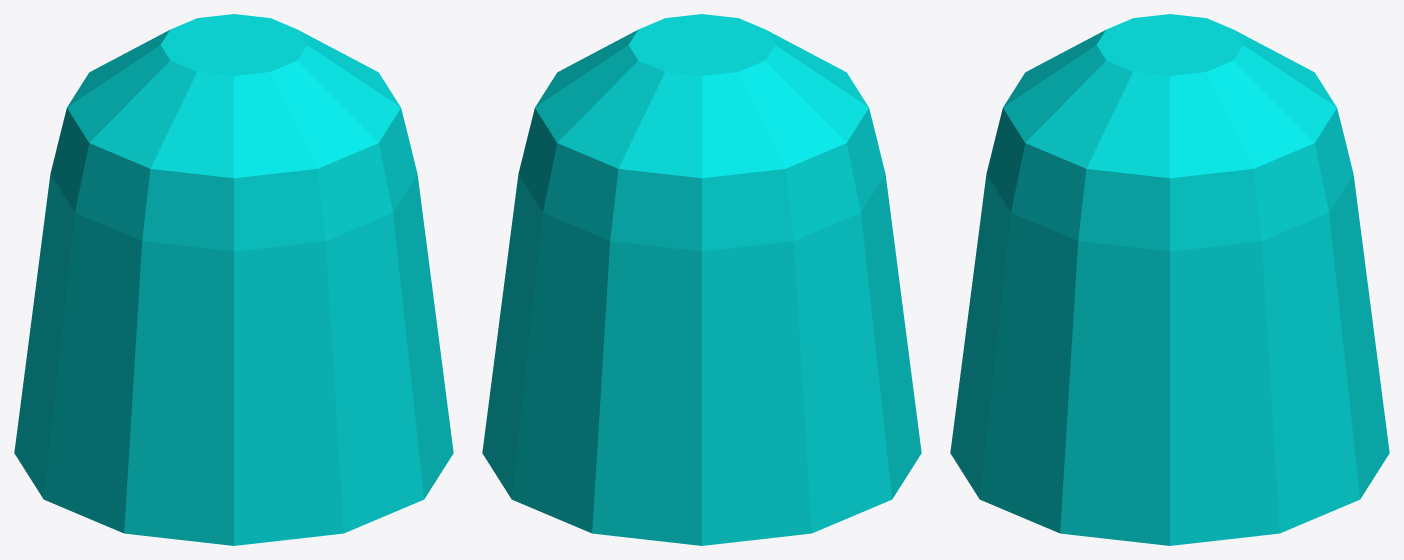
File: SM_Bld_Shrine_02_Bell_01_Collision.fbx
3 renders of one model, left to right at view 1: azimuth 30°, elevation 25°; view 2: azimuth 150°, elevation 25°; view 3: azimuth 270°, elevation 25°, orthographic.
Parts seen in each view (by area): view 1: SM_Bld_Shrine_02_Bell_01_Collision; view 2: SM_Bld_Shrine_02_Bell_01_Collision; view 3: SM_Bld_Shrine_02_Bell_01_Collision.
Part boxes in pixels (x1,y1,x2,y2): SM_Bld_Shrine_02_Bell_01_Collision: (14, 14, 453, 545); SM_Bld_Shrine_02_Bell_01_Collision: (482, 14, 921, 545); SM_Bld_Shrine_02_Bell_01_Collision: (950, 14, 1389, 545).
Size of the model in its own units: 162 by 166 by 162.
